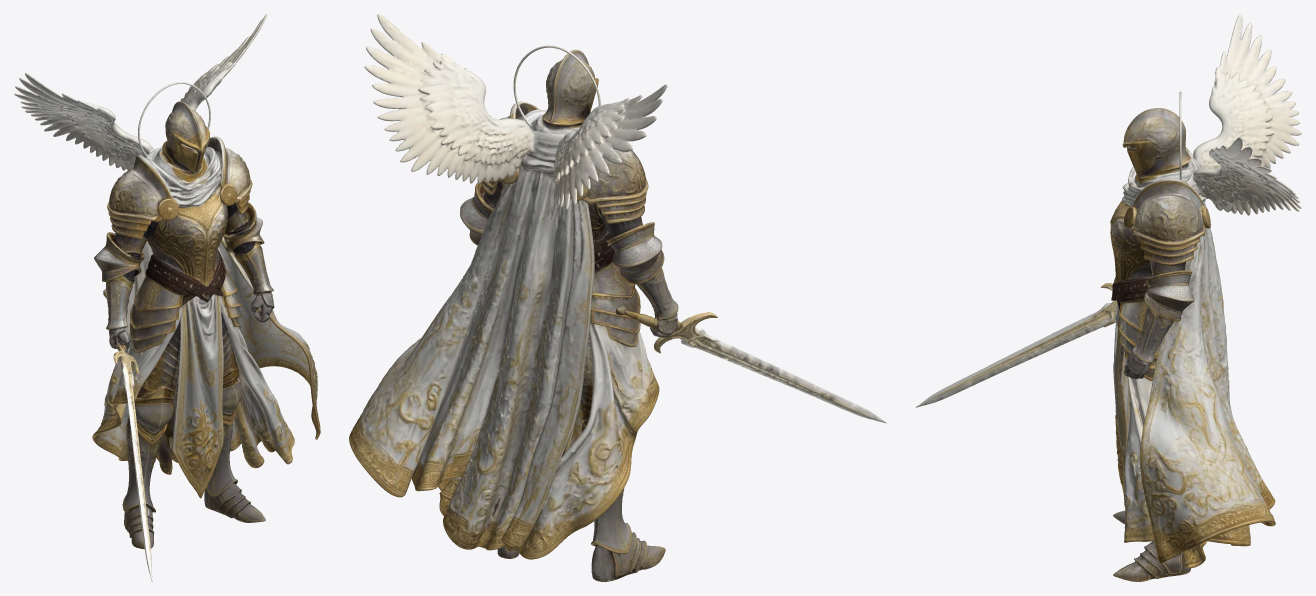
Rendered from hero_dawn.glb.
3 renders of one model, left to right at view 1: azimuth 30°, elevation 25°; view 2: azimuth 150°, elevation 25°; view 3: azimuth 270°, elevation 25°, orthographic. The views are drawn at different scales.
Size of the model in its own units: 1.32 by 1.9 by 1.4.
Materials: 1 (1 with a texture image).
